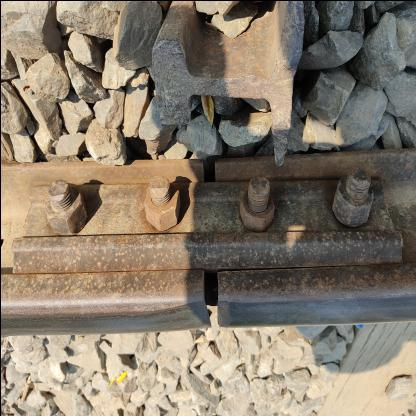Defective 2: (164, 220, 269, 362)
Non Defective 3: (4, 152, 402, 272)
